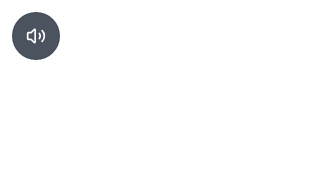
Test: MuteButton Component › toggles mute state when clicked (icon variant)
Note: Click to mute
Click the button at (36, 36), box [12,12,60,60]
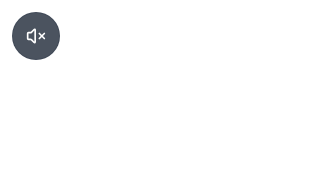
Check: the button has attribute aria-label="Unmute audio announcements"
Note: Click to unmute
Click the button at (36, 36), box [12,12,60,60]
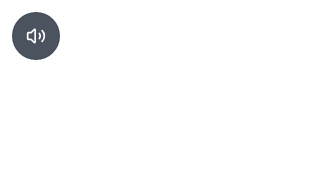
Check: the button has attribute aria-label="Mute audio announcements", box [12,12,60,60]
